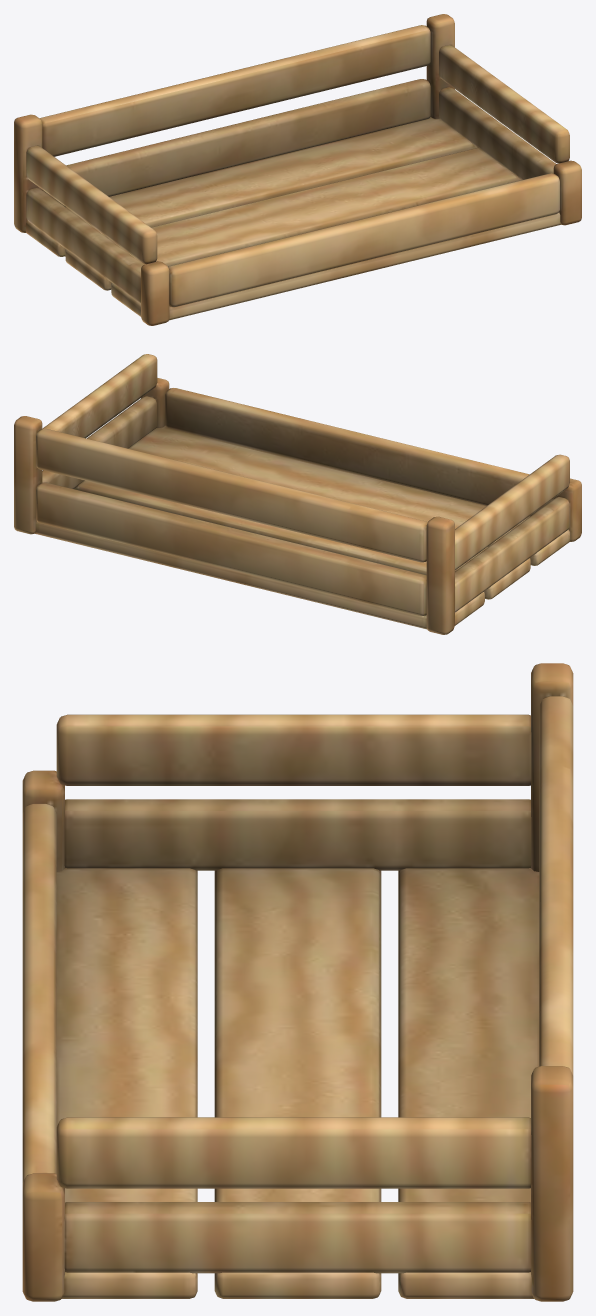
File: crate.glb
The picture shows the model from 3 angles, top to bottom: view 1: azimuth 30°, elevation 25°; view 2: azimuth 150°, elevation 25°; view 3: azimuth 270°, elevation 25°; orthographic projection. The views are drawn at different scales.
Parts seen in each view (by area): view 1: crate; view 2: crate; view 3: crate.
Boxes of the visible parts, left/top/right/bottom form: crate: left=14, top=14, right=581, bottom=325; crate: left=14, top=354, right=581, bottom=634; crate: left=22, top=663, right=573, bottom=1301.
Bounding box in the file's own units: 2.37 × 0.58 × 1.3.
1 material, 1 textured.
